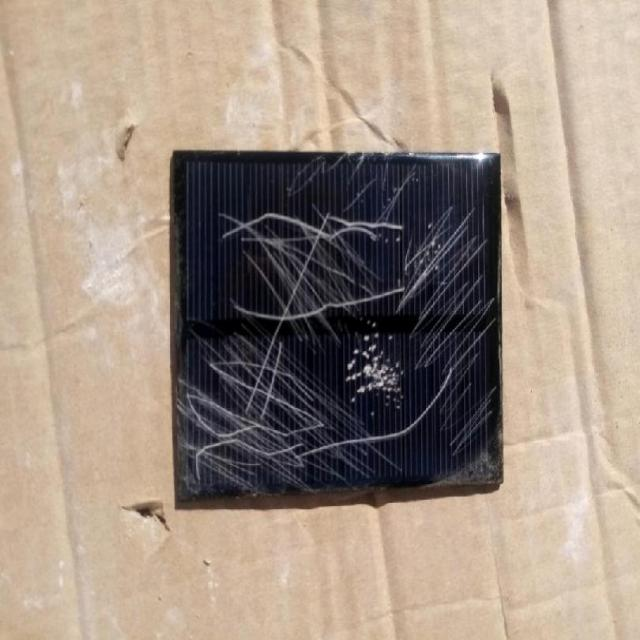faulty: (182, 144, 502, 498)
